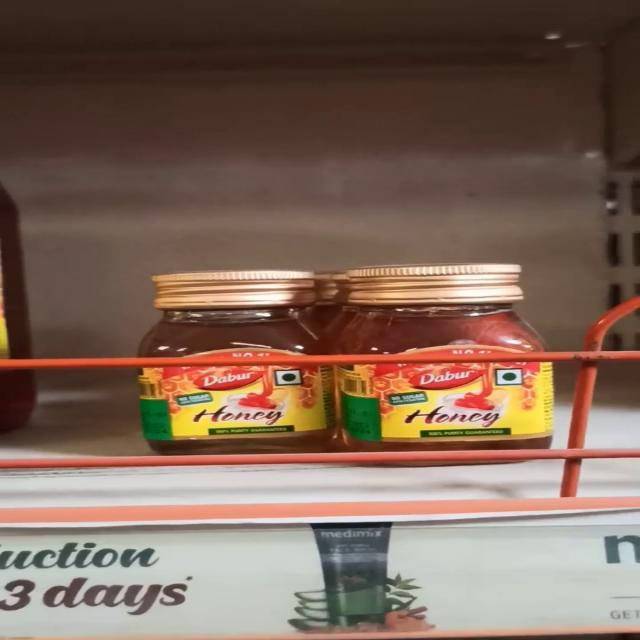Dabur Honey: (342, 264, 554, 458), (132, 272, 340, 464)
